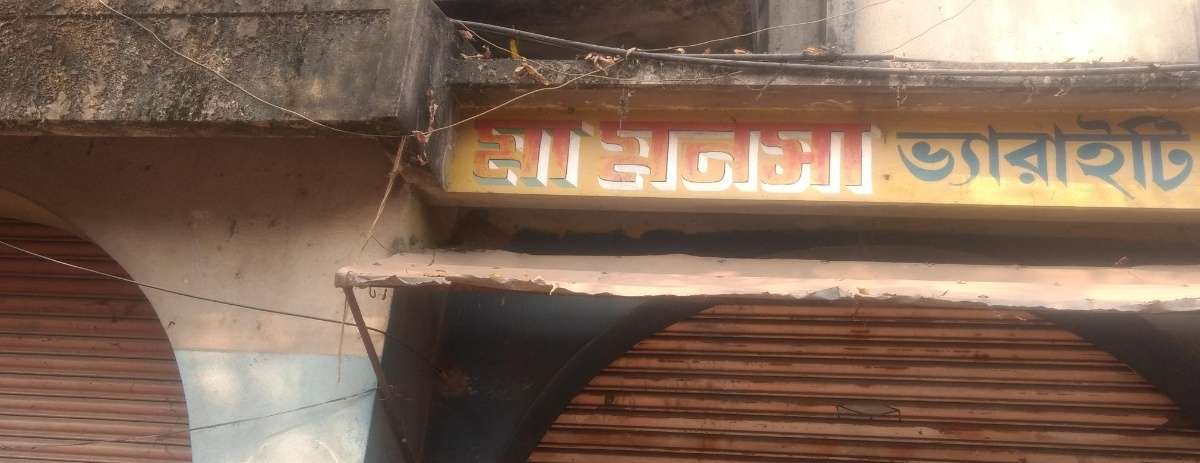text: (897, 110, 912, 203), (913, 110, 928, 203), (929, 110, 944, 203), (945, 110, 960, 203), (961, 110, 976, 203), (977, 110, 992, 203), (993, 110, 1008, 203), (1009, 110, 1024, 203), (1025, 110, 1040, 203), (1041, 110, 1056, 203), (1057, 110, 1072, 203), (1073, 110, 1088, 203), (1089, 110, 1104, 203), (1105, 110, 1120, 203), (1121, 110, 1136, 203), (1137, 110, 1152, 203), (1153, 110, 1168, 203), (1169, 110, 1184, 203), (481, 116, 496, 193), (497, 116, 512, 193), (513, 116, 528, 193), (529, 116, 544, 193), (545, 116, 560, 193), (561, 116, 576, 193), (577, 116, 592, 193), (609, 119, 624, 196), (625, 119, 640, 196), (641, 119, 656, 196), (657, 119, 672, 196), (673, 119, 688, 196), (689, 119, 704, 196), (705, 119, 720, 196), (721, 119, 736, 196), (737, 119, 752, 196), (753, 119, 768, 196), (769, 119, 784, 196), (785, 119, 800, 196), (801, 119, 816, 196), (817, 119, 832, 196), (833, 119, 848, 196), (849, 119, 864, 196), (865, 119, 880, 196), (1185, 110, 1195, 203), (599, 119, 608, 196), (475, 116, 480, 193), (593, 116, 597, 193), (881, 119, 885, 196), (895, 110, 896, 203)
